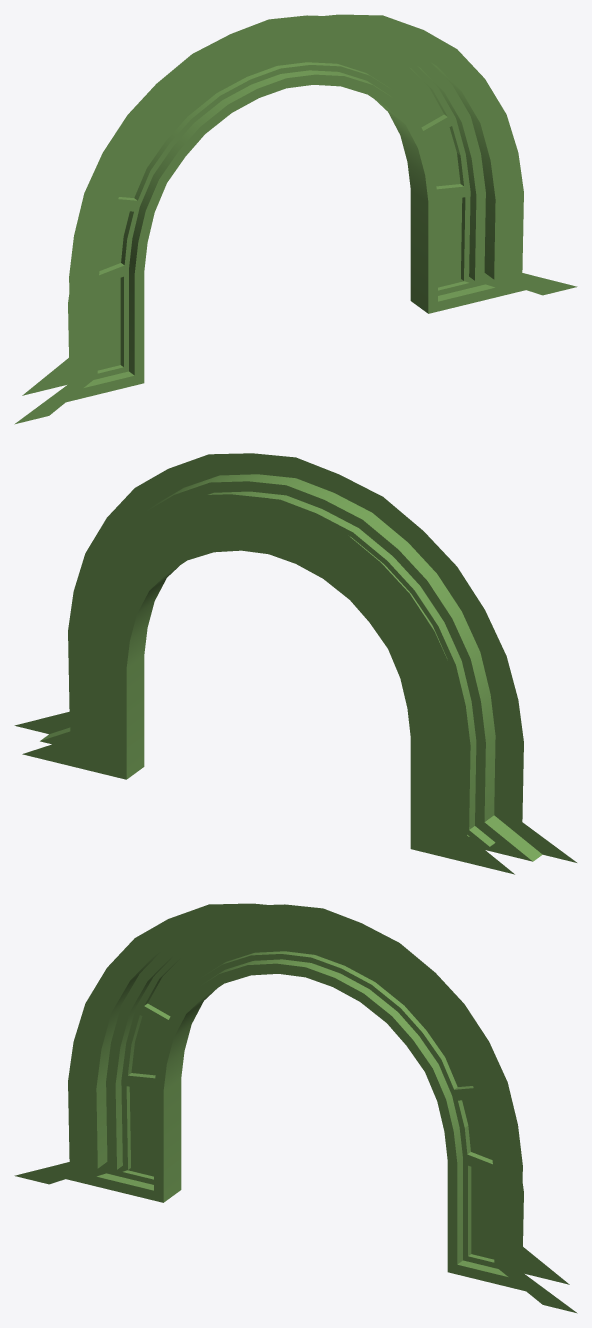
Rendered from M_Tunnelarc3.FBX.
3 views of the same model, one above another, from view 1: azimuth 30°, elevation 25°; view 2: azimuth 150°, elevation 25°; view 3: azimuth 330°, elevation 25° (orthographic).
Parts seen in each view (by area): view 1: tunnelarc3; view 2: tunnelarc3; view 3: tunnelarc3.
Boxes of the visible parts, box(x1,y1,x2,y2) form: tunnelarc3: box(14, 14, 577, 424); tunnelarc3: box(14, 453, 576, 874); tunnelarc3: box(14, 903, 577, 1313).
Size of the model in its own units: 347 by 198 by 29.14.
